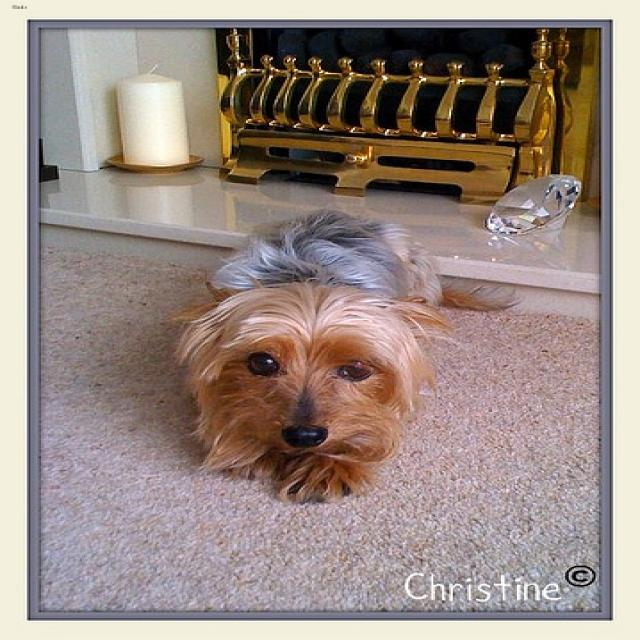dog-yorkshire_terrier: (157, 195, 528, 512)
